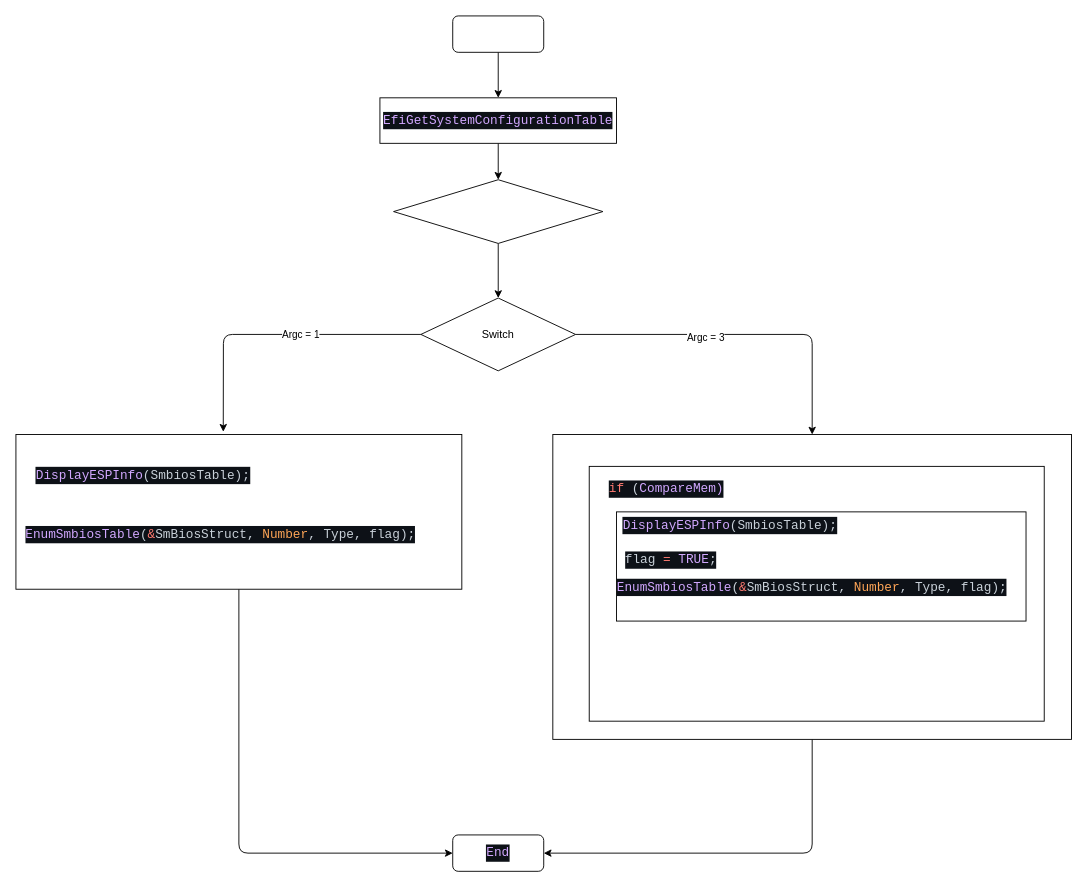
The diagram is 1087 pixels wide and 887 high, and some of its shapes have lost their labels. The centre of each missing label's shape, as x and y in pixels:
if( SmbiosTable ): the point at 498,211
main: the point at 498,33
